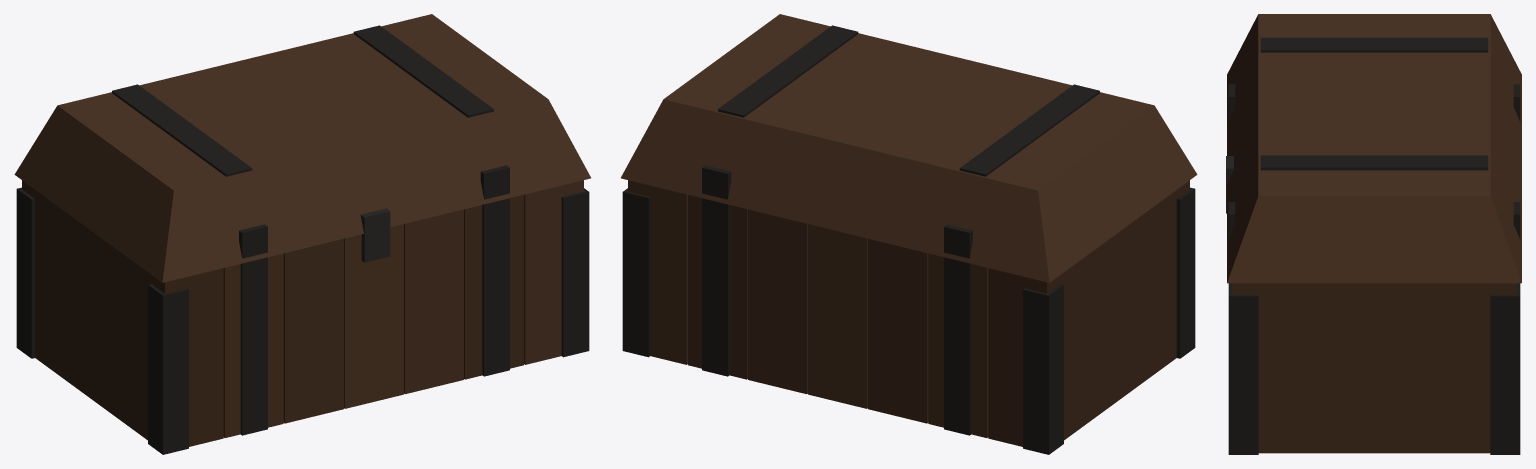
The picture shows the model from 3 angles, left to right: view 1: azimuth 30°, elevation 25°; view 2: azimuth 150°, elevation 25°; view 3: azimuth 270°, elevation 25°; orthographic projection.
Visible parts, largest first — view 1: storage_box_large; view 2: storage_box_large; view 3: storage_box_large.
Boxes of the visible parts, x1=… form: storage_box_large: x1=14, y1=14, x2=590, y2=454; storage_box_large: x1=621, y1=14, x2=1197, y2=454; storage_box_large: x1=1226, y1=14, x2=1521, y2=454.
Bounding box in the file's own units: 1.49 × 0.828 × 0.893.
